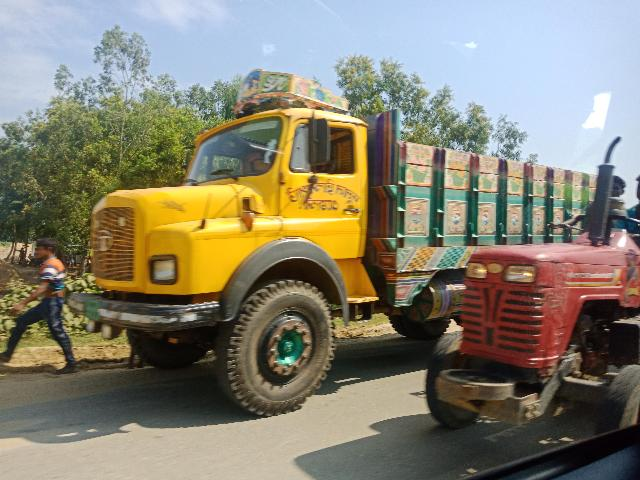truck: (42, 61, 437, 413)
